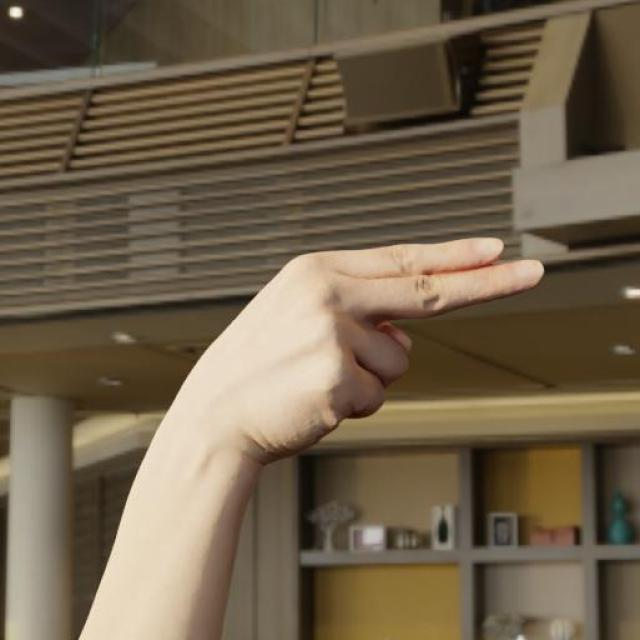H: (157, 238, 557, 464)
